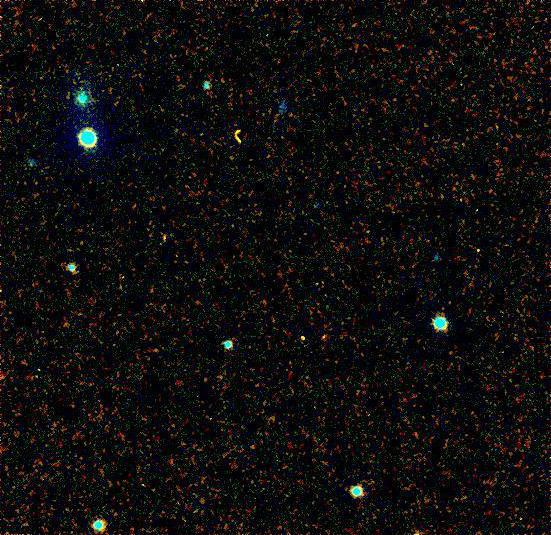star: (216, 128, 246, 158)
